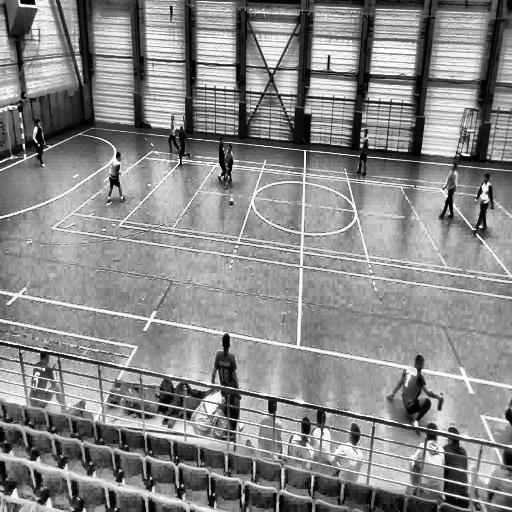ball: (229, 195, 235, 209)
player: (390, 354, 441, 430), (29, 345, 71, 411), (409, 423, 444, 494), (211, 332, 241, 402), (334, 423, 366, 482), (444, 422, 468, 498), (256, 394, 283, 459), (472, 170, 494, 236), (437, 160, 459, 222), (287, 412, 312, 466), (311, 403, 332, 464), (106, 149, 126, 204), (32, 118, 46, 168), (177, 124, 192, 169), (355, 126, 368, 177), (167, 114, 181, 158), (222, 143, 234, 188), (217, 134, 227, 184)
